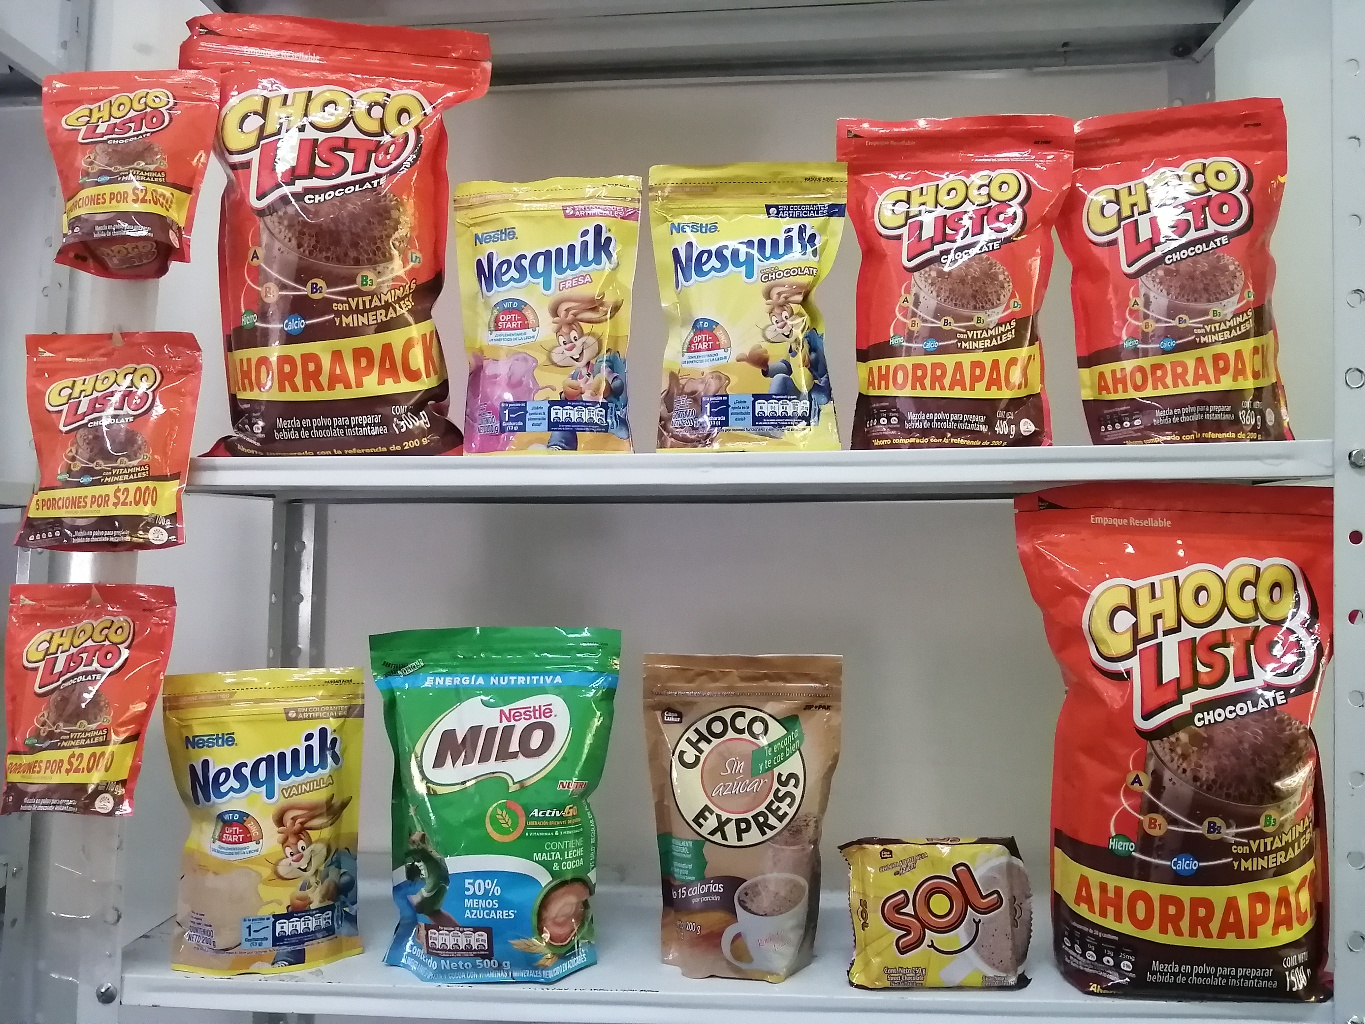COL0170103DYP1,500: (201, 2, 486, 474)
COL0170103DYP10000: (25, 38, 218, 269)
COL0170103DYP36000: (1066, 93, 1305, 445)
COL0170103DYP40000: (845, 104, 1092, 445)
COL0170205DYP50000: (364, 612, 614, 984)
COL0170303DYP20000: (645, 145, 847, 447)
COL0170305DYP20000: (454, 150, 653, 451)
COL0170306DYP20000: (160, 651, 373, 981)
